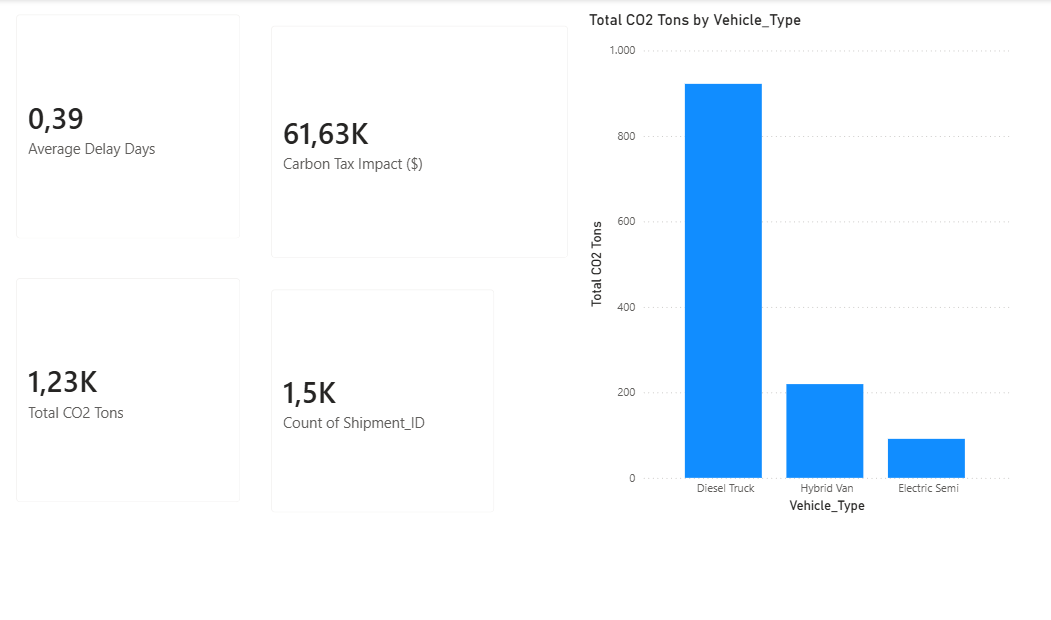

The page's visual inventory and layout, read from the dashboard file:
{"tool":"powerbi","page":{"name":"Executive Summary","canvas":[1280,720],"ordinal":0},"visuals":[{"type":"cardVisual","fields":{"Data":["Fact_Shipments_with_ML.Average Delay Days"]},"box":[10,0,280,280],"z":0},{"type":"cardVisual","fields":{"Data":["Fact_Shipments_with_ML.Total CO2 Tons"]},"box":[10,290,280,280],"z":1000},{"type":"cardVisual","fields":{"Data":["Fact_Shipments_with_ML.Carbon Tax Impact ($)"]},"box":[289.5,12.3,360.9,289.5],"z":2000},{"type":"cardVisual","fields":{"Data":["Count(Fact_Shipments_with_ML.Shipment_ID)"]},"box":[289.5,301.9,279.9,279.9],"z":3000},{"type":"columnChart","fields":{"Category":["Dim_Route.Vehicle_Type"],"Y":["Fact_Shipments_with_ML.Total CO2 Tons"]},"box":[650.4,12.3,472,557.1],"z":4000}]}

Visuals, with their boxes on the page's 1280x720 design canvas (x1, y1, x2, y2). These are canvas units, not pixel positions in the 1051x620 screenshot, which may show the page scaled, cropped or inside an application window:
cardVisual - Fact_Shipments_with_ML.Average Delay Days: <region>10, 0, 290, 280</region>
cardVisual - Fact_Shipments_with_ML.Total CO2 Tons: <region>10, 290, 290, 570</region>
cardVisual - Fact_Shipments_with_ML.Carbon Tax Impact ($): <region>290, 12, 650, 302</region>
cardVisual - Count(Fact_Shipments_with_ML.Shipment_ID): <region>290, 302, 569, 582</region>
columnChart - Dim_Route.Vehicle_Type x Fact_Shipments_with_ML.Total CO2 Tons: <region>650, 12, 1122, 569</region>
